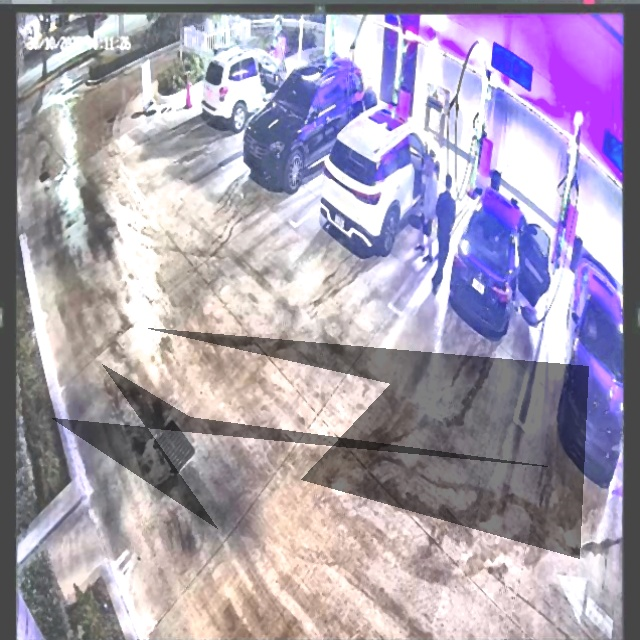Car: (322, 108, 439, 255), (243, 56, 364, 187), (451, 187, 547, 334)
